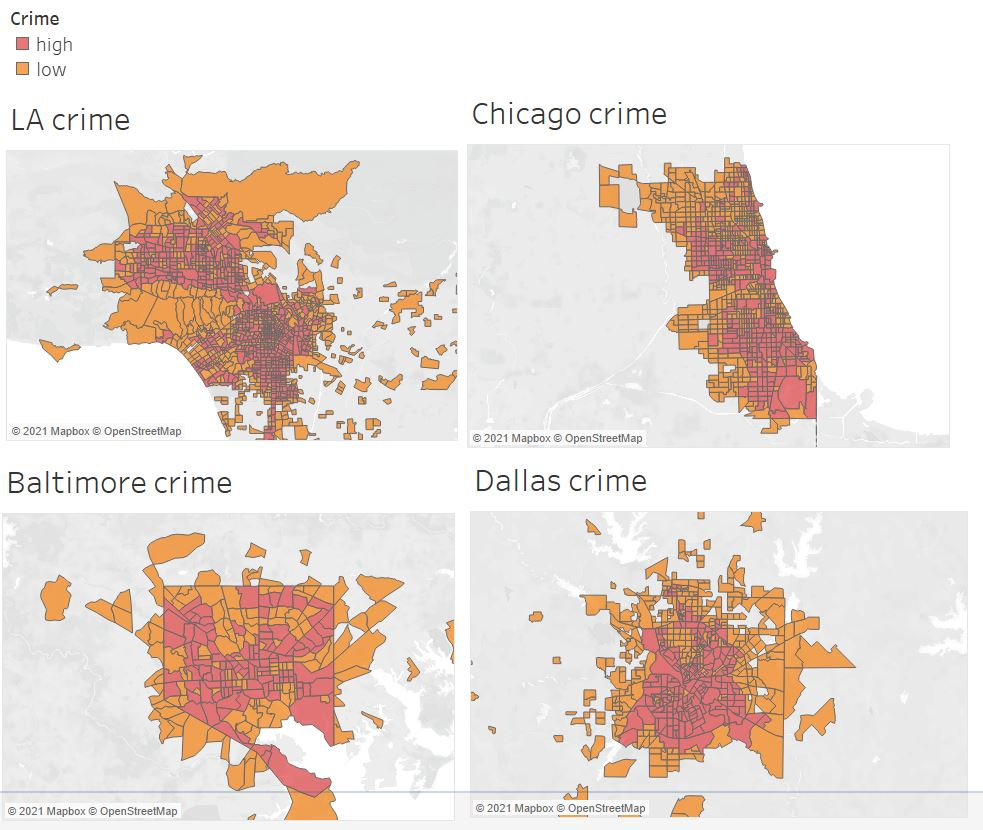

The page's visual inventory and layout, read from the dashboard file:
{"tool":"tableau","page":{"name":"Dashboard 1","canvas":[1000,800],"ordinal":0},"visuals":[{"type":"worksheet","box":[0,0,1000,800]},{"type":"worksheet","param":"horz","box":[8,8,984,784]},{"type":"worksheet","param":"vert","box":[8,8,984,784]},{"type":"worksheet","title":"Baltimore","mark":"Automatic","param":"[federated.0zp24f403yb6zh11y78qo01yy0ky].[none:crime:nk]","box":[8,8,984,84]},{"type":"worksheet","title":"Chicago","mark":"Automatic","box":[469,94,483,361]},{"type":"worksheet","title":"LA","mark":"Automatic","box":[8,100,452,348]}]}

Visuals, with their boxes on the page's 1000x800 design canvas (x1, y1, x2, y2). These are canvas units, not pixel positions in the 983x830 screenshot, which may show the page scaled, cropped or inside an application window:
worksheet: pyautogui.locateOnScreen(0, 0, 1000, 800)
worksheet: pyautogui.locateOnScreen(8, 8, 992, 792)
worksheet: pyautogui.locateOnScreen(8, 8, 992, 792)
"Baltimore" worksheet: pyautogui.locateOnScreen(8, 8, 992, 92)
"Chicago" worksheet: pyautogui.locateOnScreen(469, 94, 952, 455)
"LA" worksheet: pyautogui.locateOnScreen(8, 100, 460, 448)
